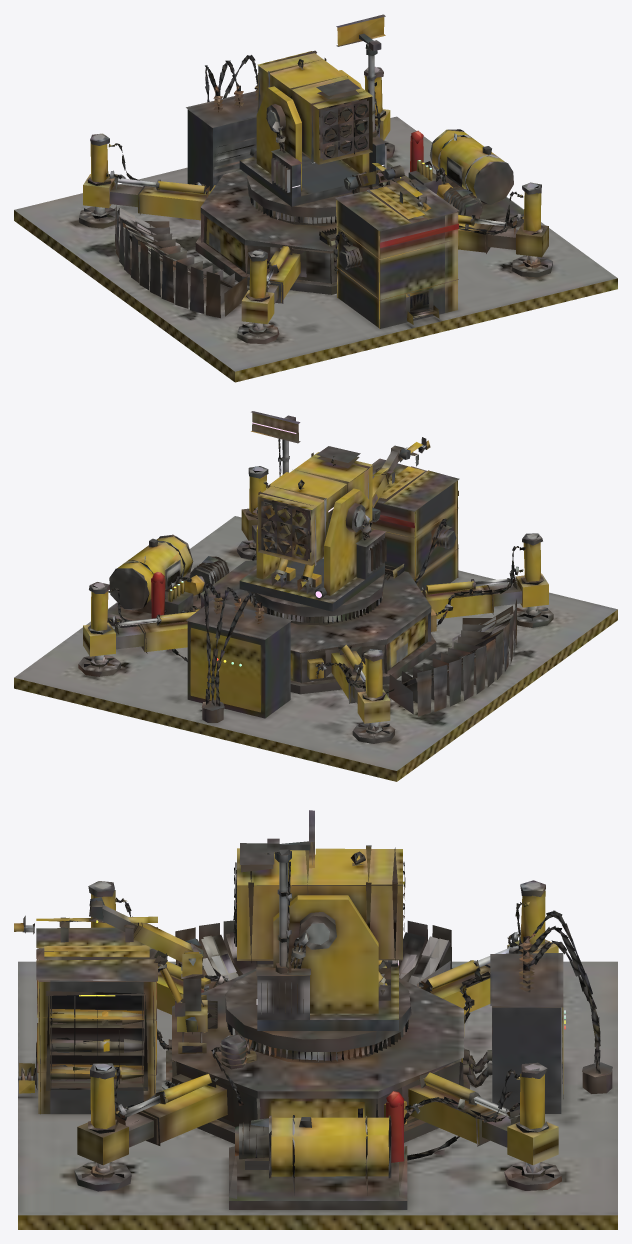
File: torre_foguetes.glb
The picture shows the model from 3 angles, top to bottom: view 1: azimuth 30°, elevation 25°; view 2: azimuth 150°, elevation 25°; view 3: azimuth 270°, elevation 25°; orthographic projection. The views are drawn at different scales.
Visible parts, largest first — view 1: torre_foguetes_base, torre_foguetes_giro, torre_foguetes_canhao; view 2: torre_foguetes_base, torre_foguetes_giro, torre_foguetes_canhao; view 3: torre_foguetes_base, torre_foguetes_giro, torre_foguetes_canhao.
Boxes of the visible parts, box(x1,y1,x2,y2) form: torre_foguetes_base: box(14, 55, 617, 382); torre_foguetes_giro: box(239, 14, 386, 224); torre_foguetes_canhao: box(257, 50, 372, 164); torre_foguetes_base: box(14, 437, 617, 781); torre_foguetes_giro: box(239, 411, 386, 623); torre_foguetes_canhao: box(257, 446, 372, 565); torre_foguetes_base: box(14, 880, 617, 1229); torre_foguetes_giro: box(225, 810, 411, 1061); torre_foguetes_canhao: box(233, 843, 405, 963).
Size of the model in its own units: 2.96 by 1.66 by 2.98.
5 materials, 1 textured.
